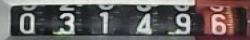digits: (54, 12, 78, 34), (134, 12, 152, 33), (18, 12, 34, 33), (210, 13, 226, 33), (174, 12, 190, 31), (98, 11, 108, 33)
